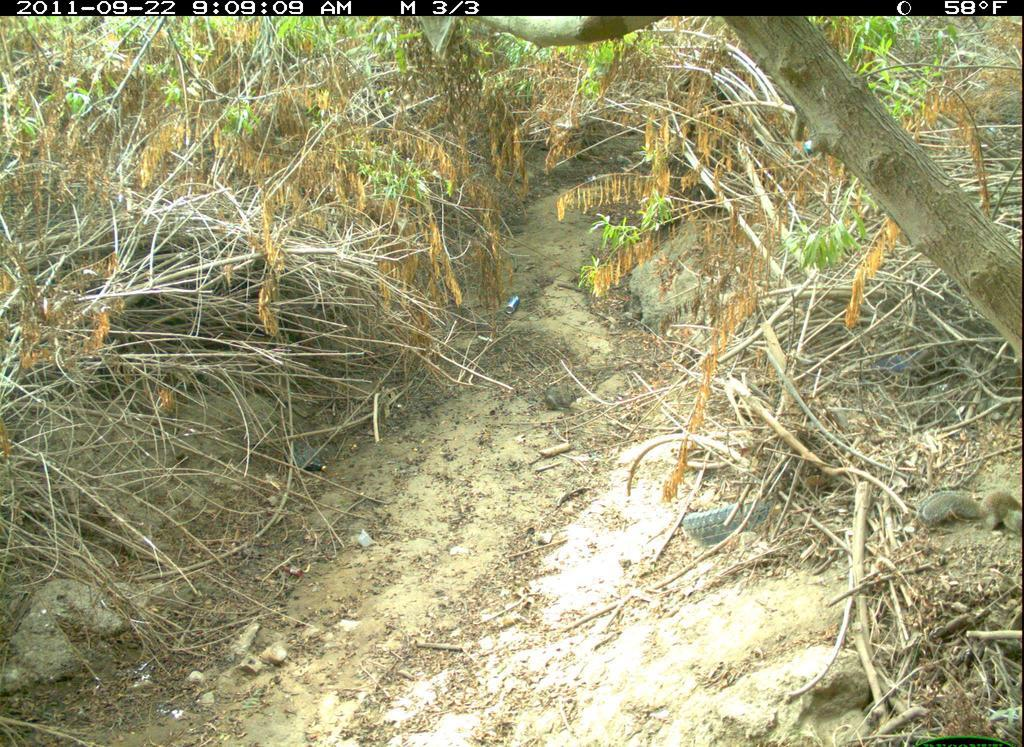squirrel: (913, 477, 1021, 542)
